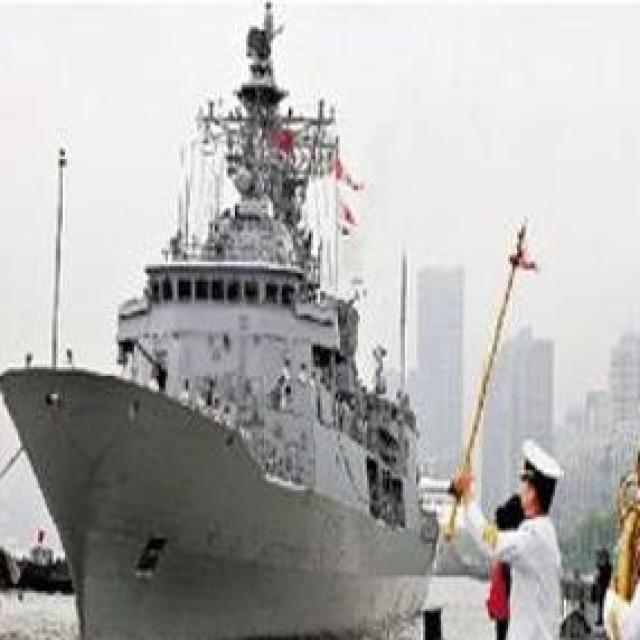navalvessels: (0, 13, 448, 640)
